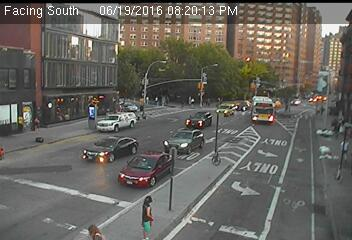neg: (331, 112, 345, 132), (281, 93, 294, 110), (314, 88, 324, 101), (179, 93, 185, 100)
pos: (130, 190, 166, 237), (336, 137, 351, 167), (88, 219, 100, 236)
